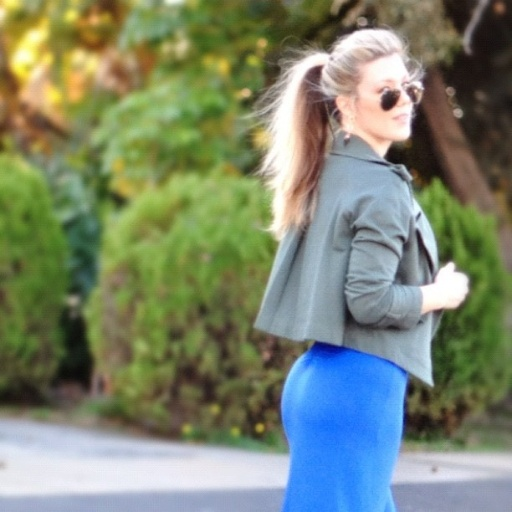hand: (419, 262, 478, 321)
